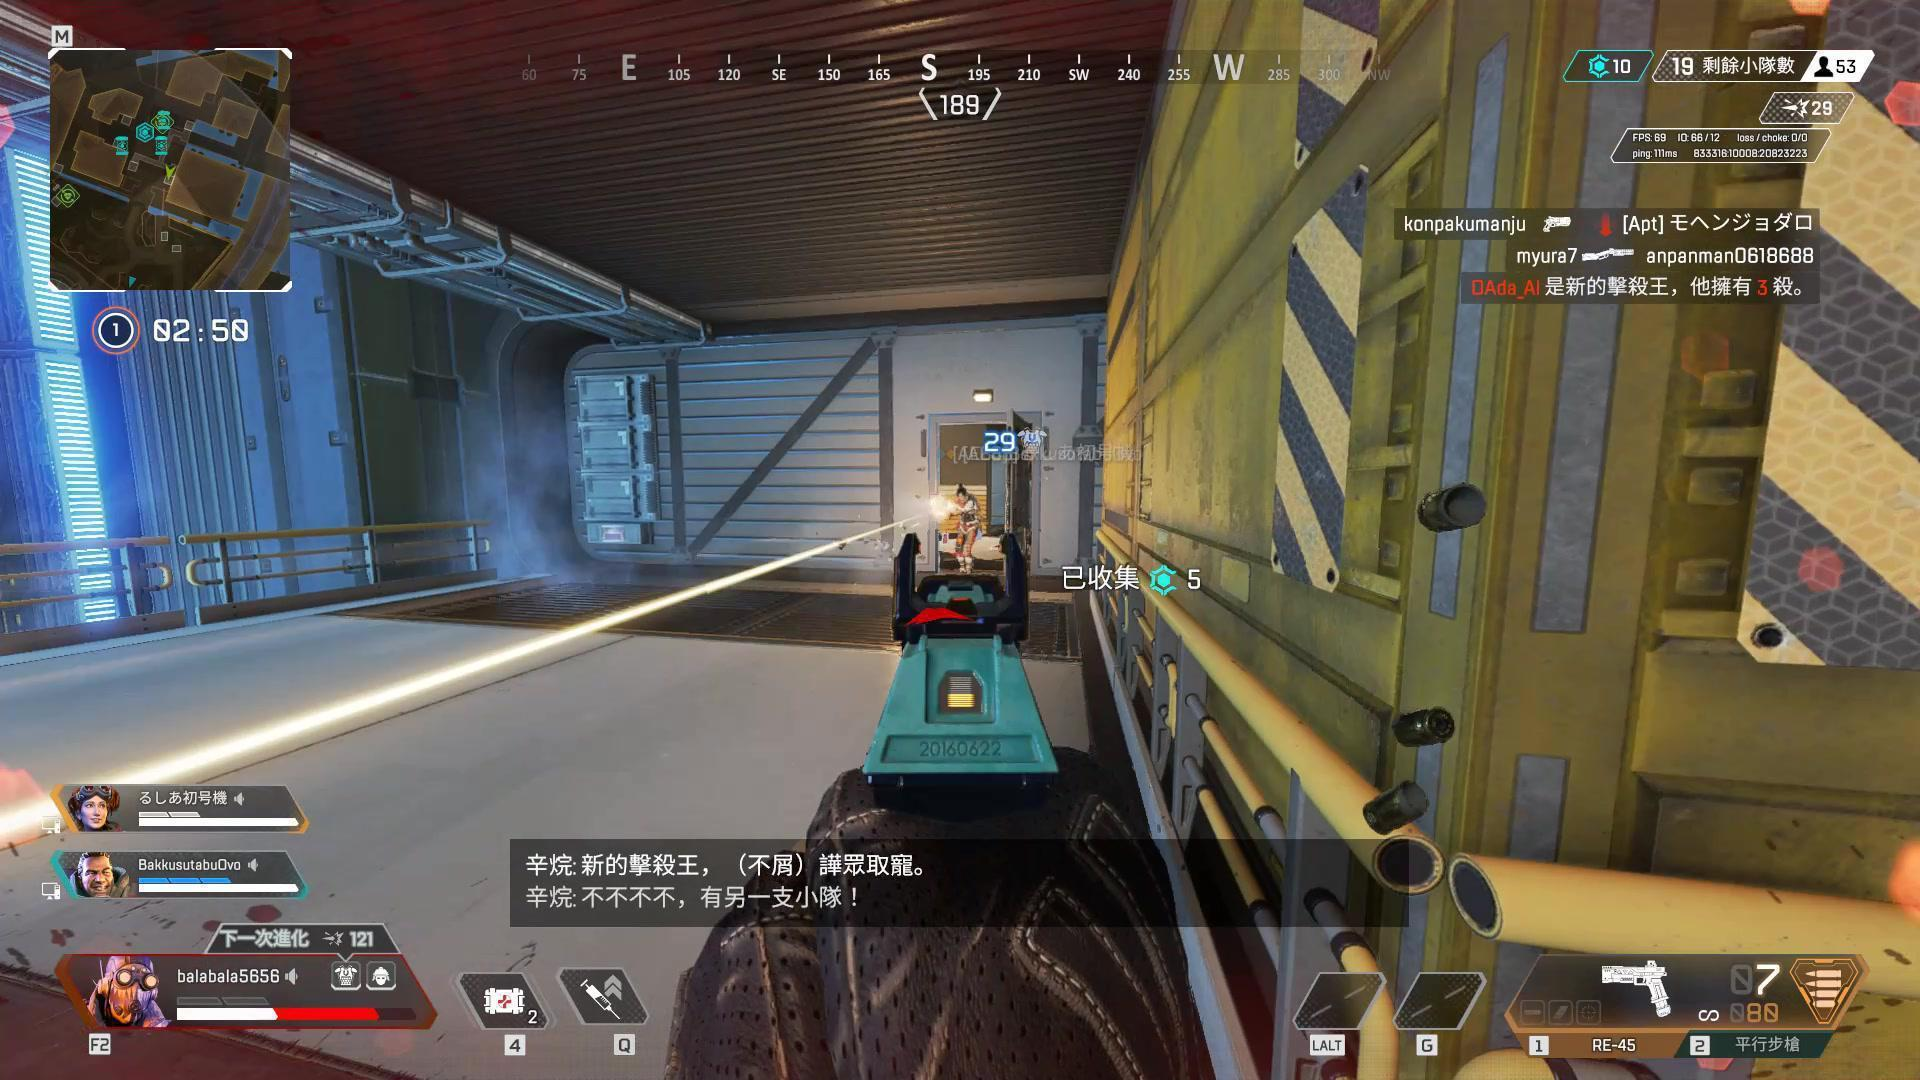avatar: (952, 483, 981, 576)
